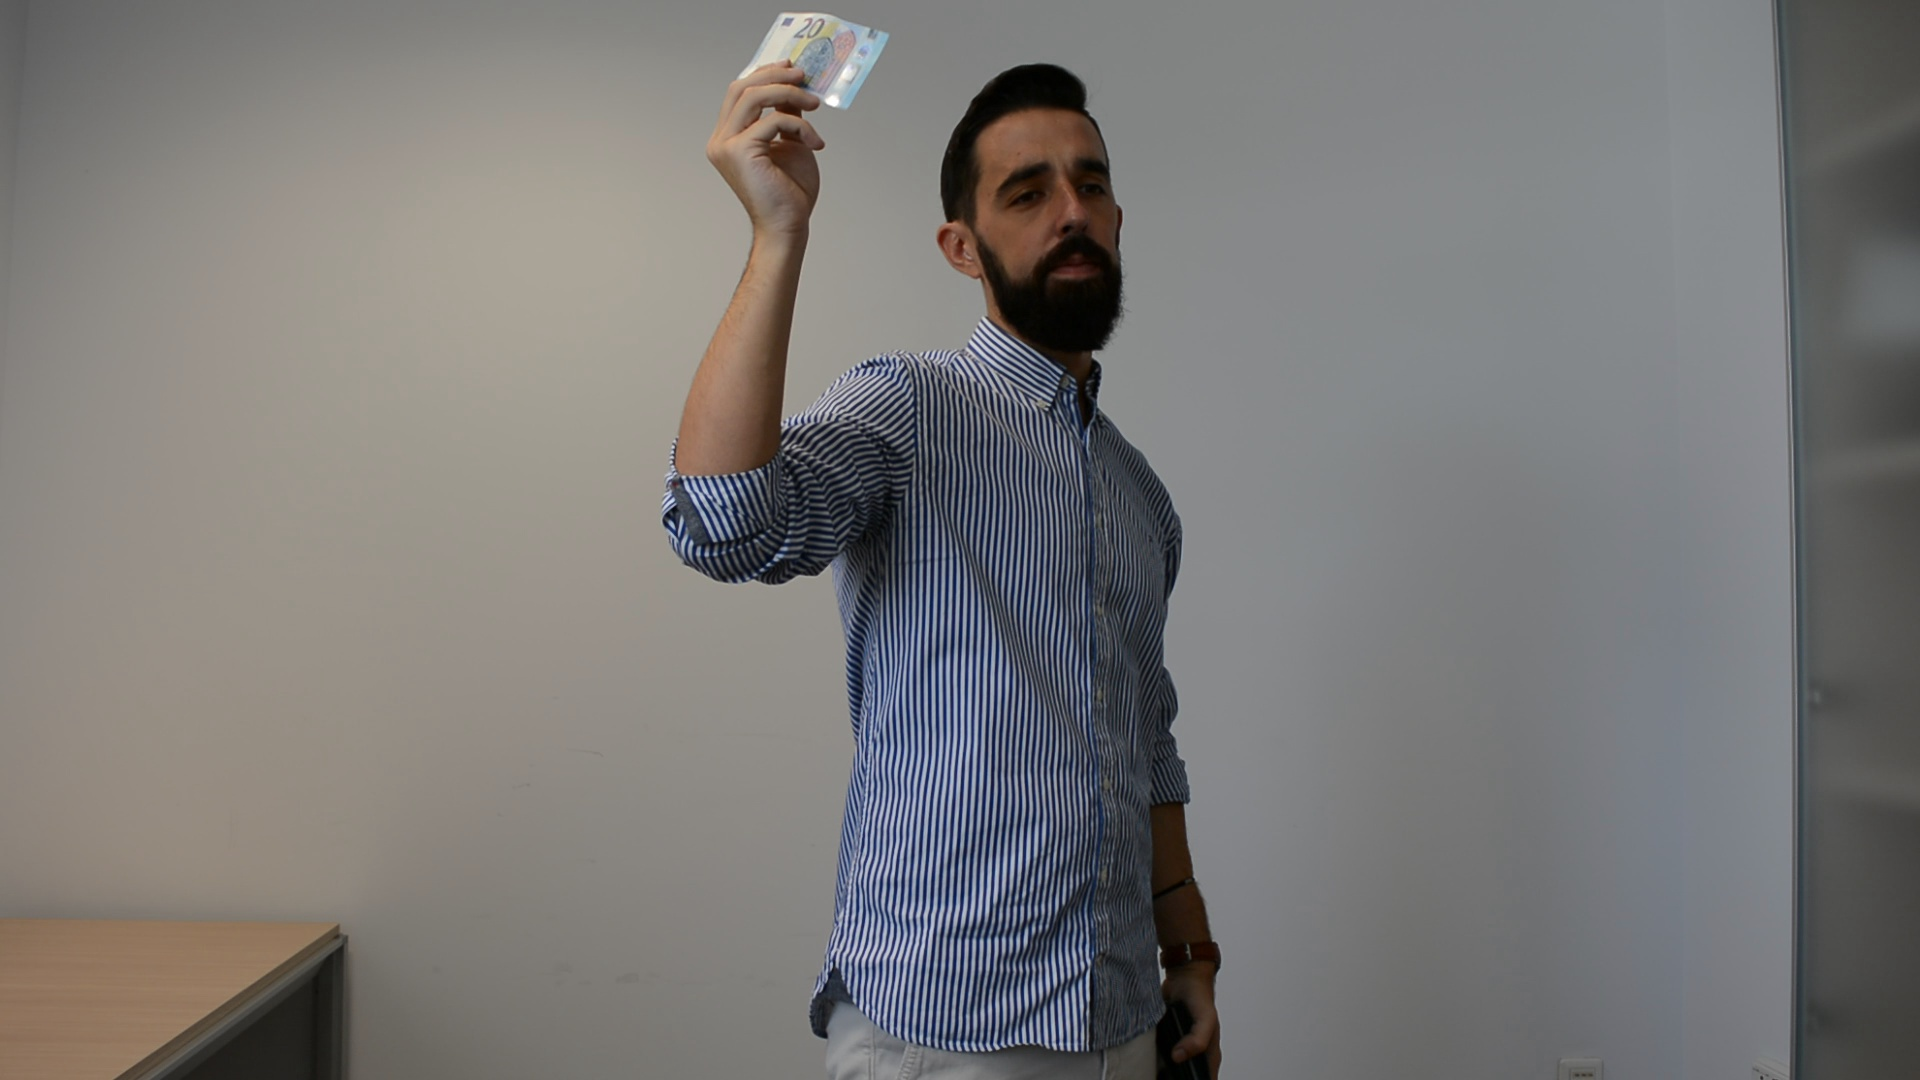billete: (733, 11, 895, 113)
